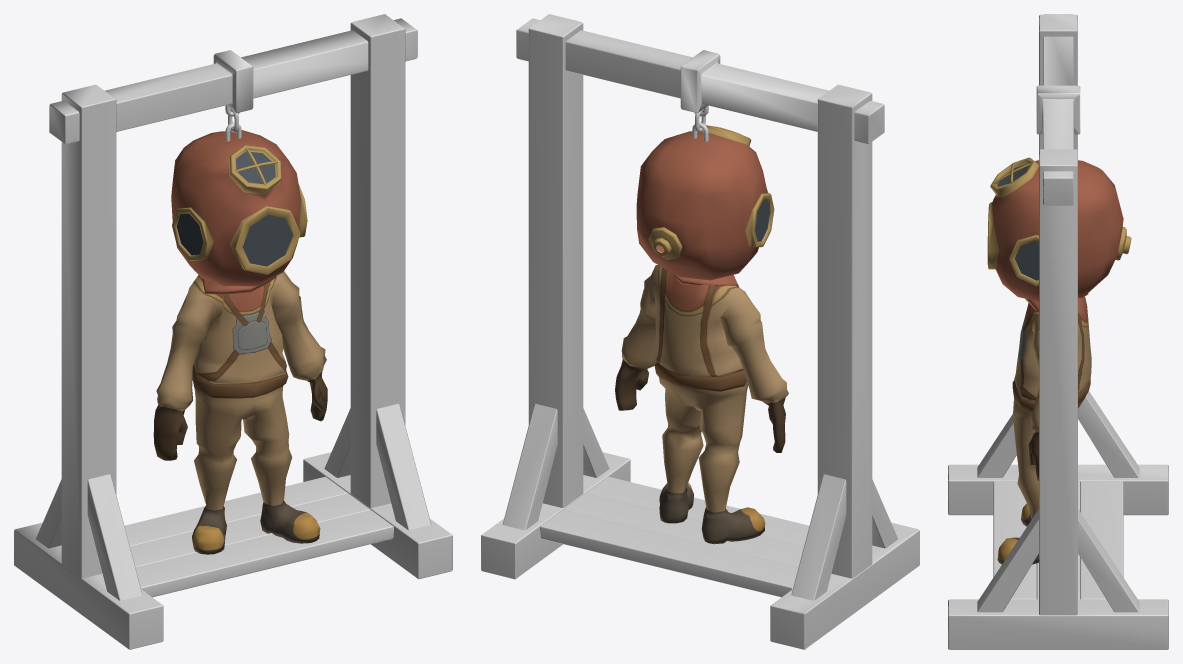
Rendered from suitstand.fbx.
The picture shows the model from 3 angles, left to right: view 1: azimuth 30°, elevation 25°; view 2: azimuth 150°, elevation 25°; view 3: azimuth 270°, elevation 25°; orthographic projection. The views are drawn at different scales.
Parts seen in each view (by area): view 1: platform, diver_body, diver_head; view 2: platform, diver_body, diver_head; view 3: platform, diver_head, diver_body.
Boxes of the visible parts, left/top/right/bottom form: platform: left=14, top=14, right=452, bottom=649; diver_body: left=153, top=271, right=327, bottom=554; diver_head: left=171, top=130, right=307, bottom=294; platform: left=481, top=14, right=919, bottom=649; diver_body: left=615, top=265, right=788, bottom=544; diver_head: left=636, top=125, right=774, bottom=286; platform: left=948, top=14, right=1168, bottom=649; diver_head: left=987, top=157, right=1131, bottom=311; diver_body: left=997, top=296, right=1091, bottom=564.
Size of the model in its own units: 359 by 494 by 204.
